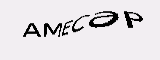Е: (76, 24, 89, 42)
Ж: (100, 19, 126, 39)
З: (29, 22, 47, 43)
Л: (88, 20, 104, 41)
Ш: (44, 26, 77, 44)
